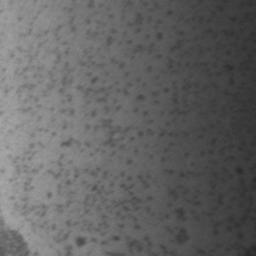Pitted surface: (0, 0, 153, 256), (129, 237, 173, 256), (128, 33, 162, 52), (128, 14, 142, 32), (177, 229, 188, 243), (107, 30, 116, 46), (176, 208, 185, 220), (88, 0, 101, 8), (87, 30, 97, 39), (246, 247, 256, 256)
